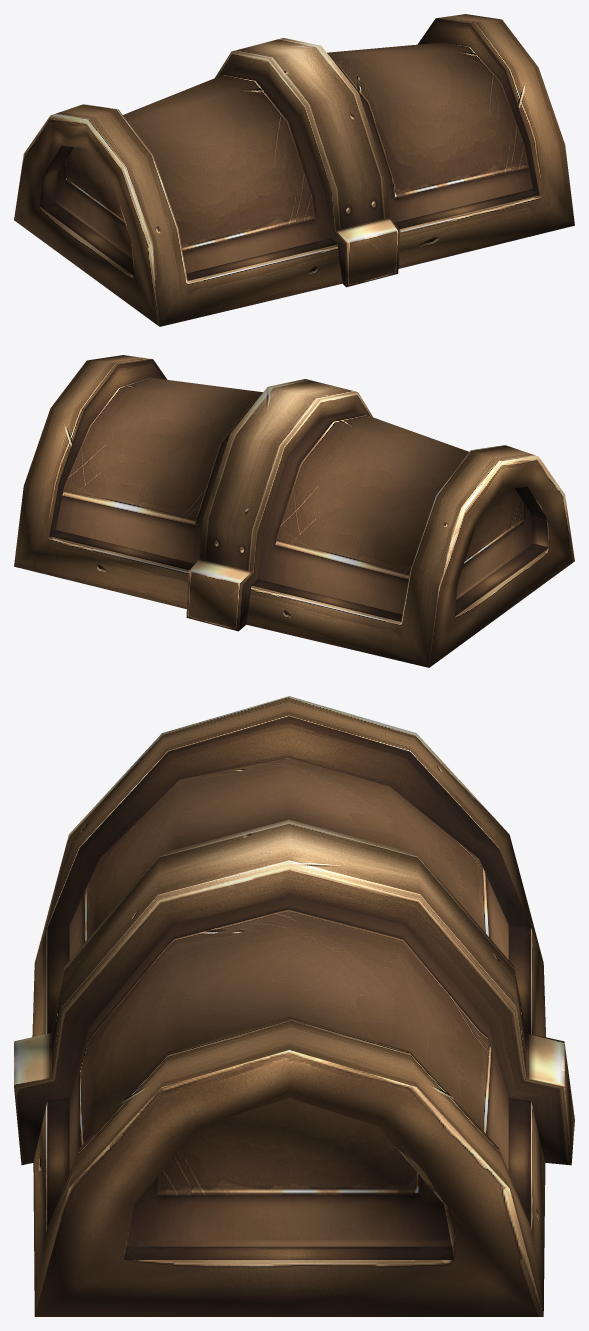
The model's file is goldtop.fbx.
3 renders of one model, top to bottom at view 1: azimuth 30°, elevation 25°; view 2: azimuth 150°, elevation 25°; view 3: azimuth 270°, elevation 25°, orthographic. The views are drawn at different scales.
Visible parts, largest first — view 1: Mesh; view 2: Mesh; view 3: Mesh.
Part boxes in pixels (bbox=[...]): Mesh: bbox=[14, 14, 574, 326]; Mesh: bbox=[14, 355, 574, 667]; Mesh: bbox=[14, 696, 574, 1316].
Bounding box in the file's own units: 12.17 × 4.82 × 8.15.
